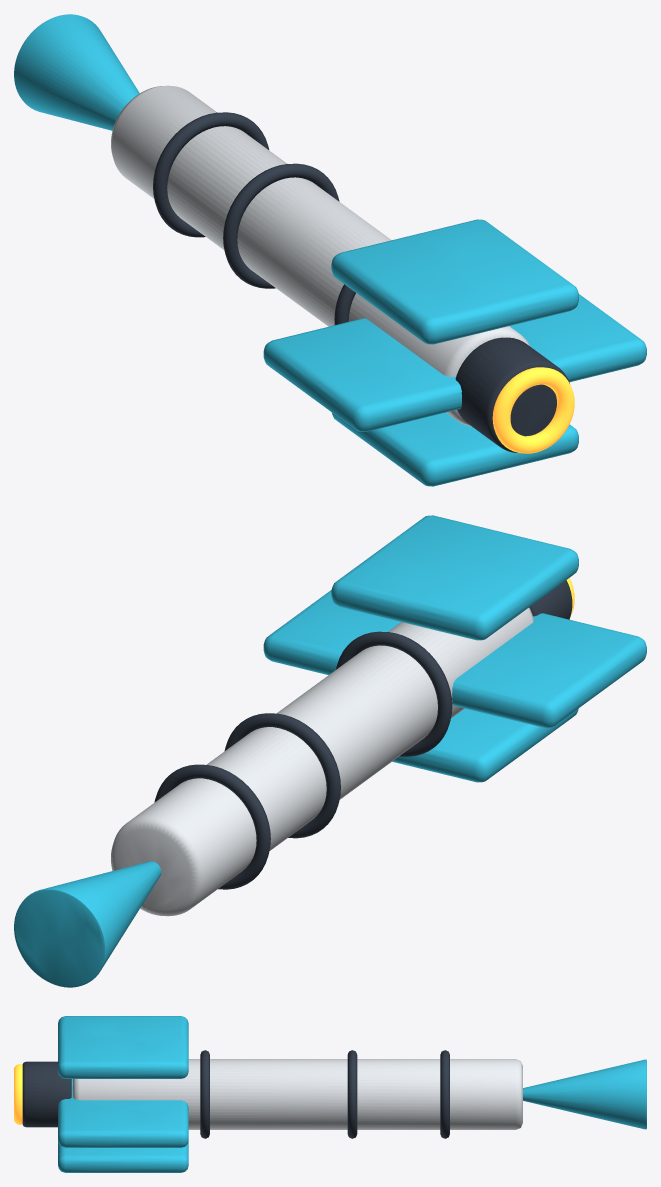
The model's file is missile_player.glb.
The picture shows the model from 3 angles, top to bottom: view 1: azimuth 30°, elevation 25°; view 2: azimuth 150°, elevation 25°; view 3: azimuth 270°, elevation 25°; orthographic projection. The views are drawn at different scales.
Parts seen in each view (by area): view 1: ASSET_missile_player; view 2: ASSET_missile_player; view 3: ASSET_missile_player.
Part boxes in pixels (x1,y1,x2,y2): ASSET_missile_player: (14, 14, 646, 486); ASSET_missile_player: (14, 515, 646, 987); ASSET_missile_player: (14, 1016, 646, 1172).
Size of the model in its own units: 0.82 by 0.45 by 2.32.
